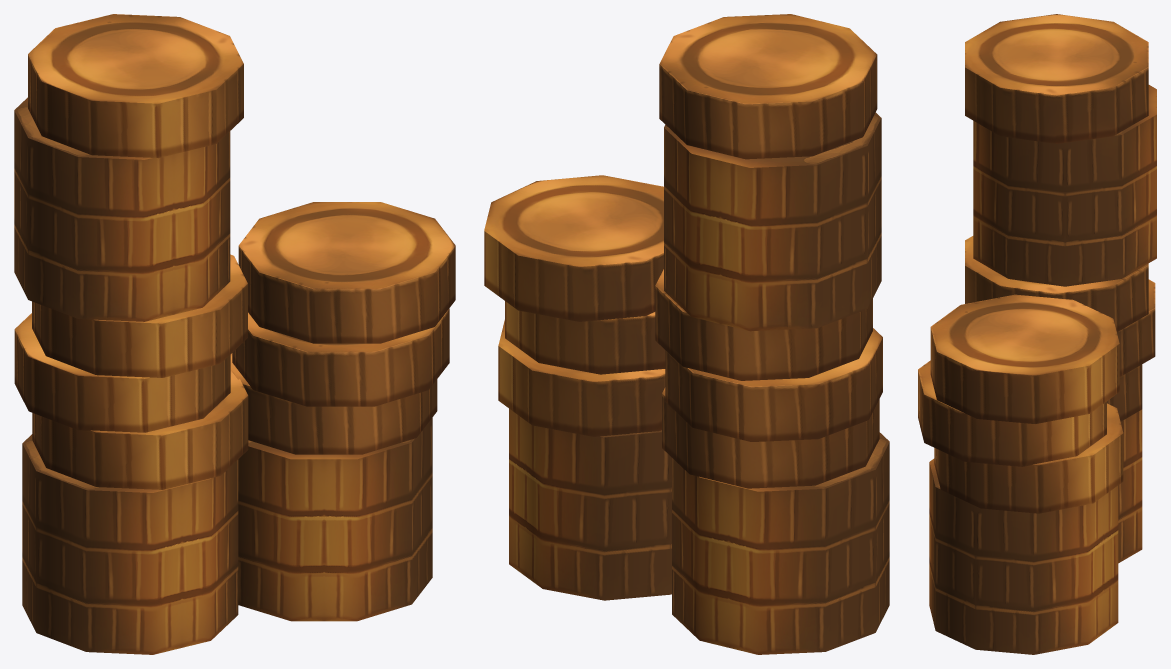
File: 69_coin2.FBX
3 views of the same model, side by side, from view 1: azimuth 30°, elevation 25°; view 2: azimuth 150°, elevation 25°; view 3: azimuth 270°, elevation 25° (orthographic). The views are drawn at different scales.
Visible parts, largest first — view 1: Object051; view 2: Object051; view 3: Object051.
Boxes of the visible parts, <box> form: Object051: <box>14,14,455,654</box>; Object051: <box>484,14,889,654</box>; Object051: <box>918,14,1156,654</box>.
Size of the model in its own units: 37.76 by 50.5 by 22.5.
